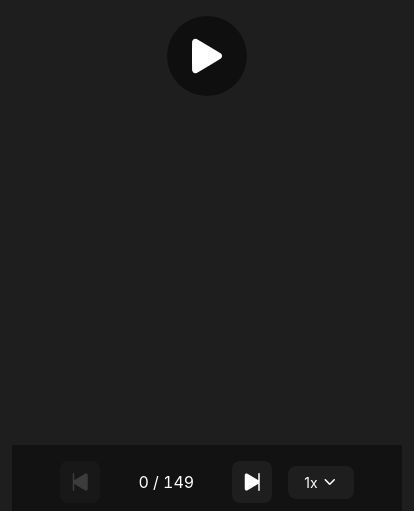
VideoPlayer › frame controls interaction › should change playback speed
Note: Open speed menu
Click the button with test id "frame-controls-speed".
click(321, 482)  # box [288,466,354,498]
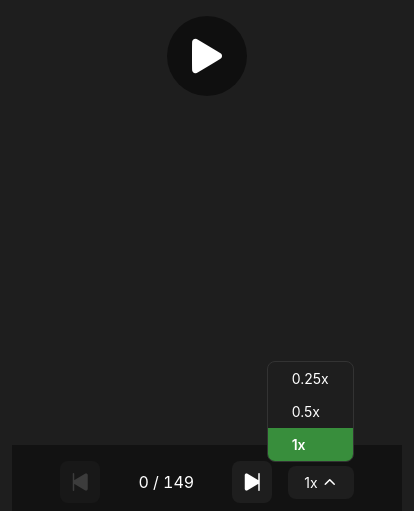
Note: Select 0.5x
Click the element with test id "speed-option-0.5".
click(306, 411)  # box [292,402,320,420]
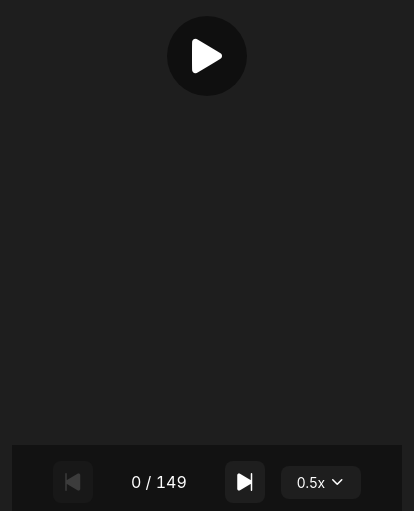
Expected: the text "0.5x" is shown, [297,474,325,490]
